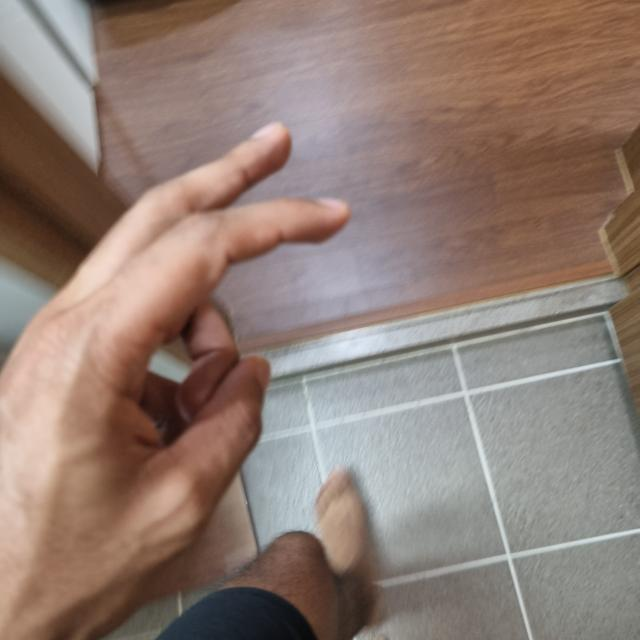Scissors: (0, 127, 349, 639)
